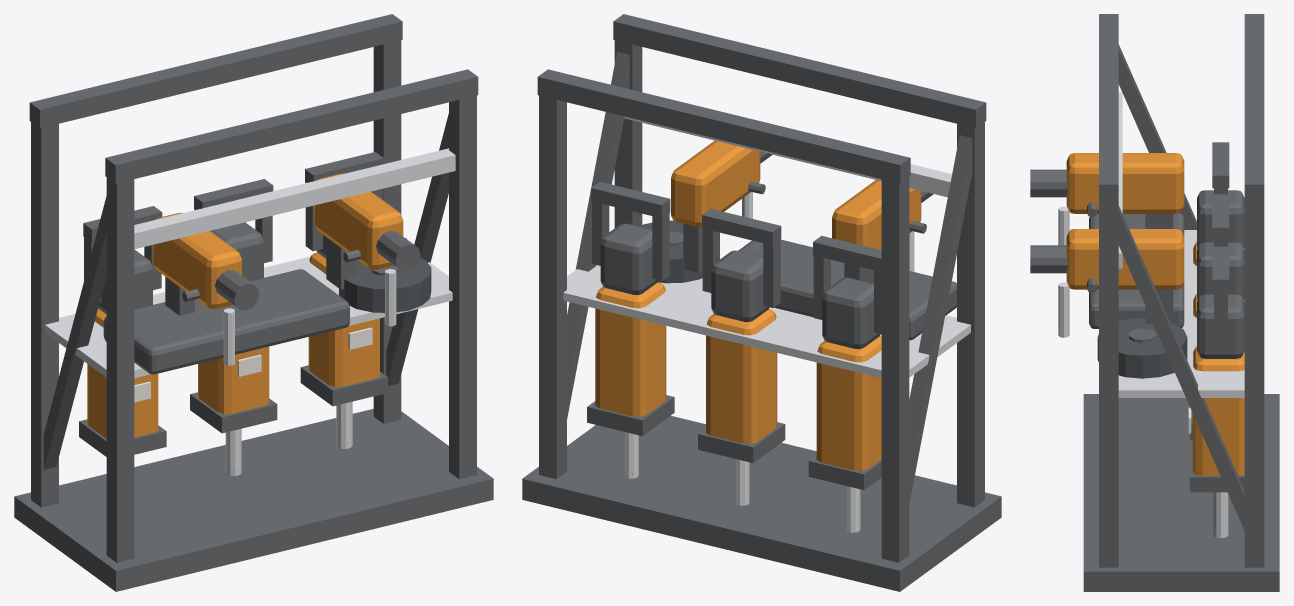
The model's file is tool-hire-depot-and-plant-yard-tool-hire-depot-and-pla-f9f946fd__35310.glb.
3 views of the same model, side by side, from view 1: azimuth 30°, elevation 25°; view 2: azimuth 150°, elevation 25°; view 3: azimuth 270°, elevation 25° (orthographic). The views are drawn at different scales.
Visible parts, largest first — view 1: tool-hire-depot-and-plant-yard-breaker-and-drill-rack; view 2: tool-hire-depot-and-plant-yard-breaker-and-drill-rack; view 3: tool-hire-depot-and-plant-yard-breaker-and-drill-rack.
Boxes of the visible parts, bbox=[...] form: tool-hire-depot-and-plant-yard-breaker-and-drill-rack: bbox=[14, 14, 493, 591]; tool-hire-depot-and-plant-yard-breaker-and-drill-rack: bbox=[522, 14, 1001, 591]; tool-hire-depot-and-plant-yard-breaker-and-drill-rack: bbox=[1030, 14, 1279, 591].
Size of the model in its own units: 1.5 by 1.59 by 0.89.
